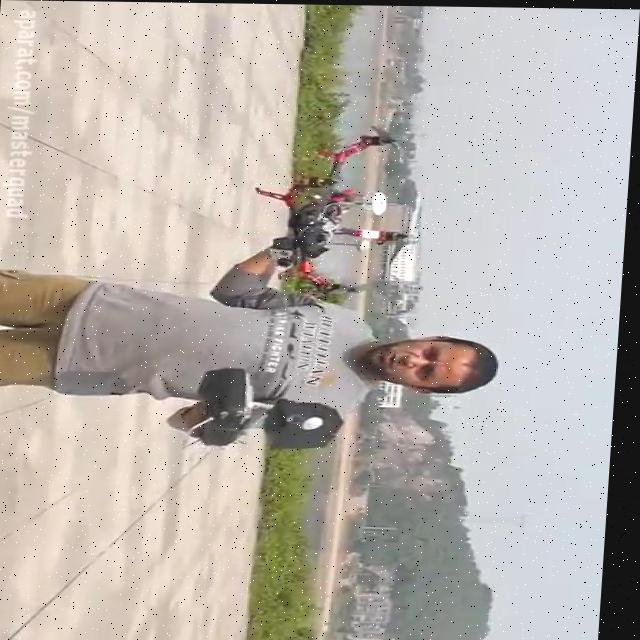drone: (252, 118, 423, 300)
